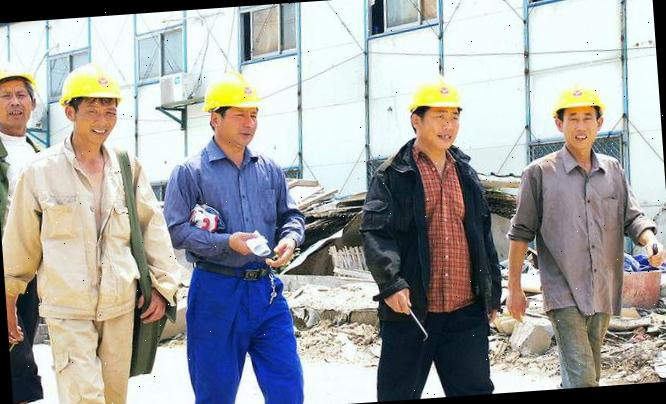helmet: (198, 68, 262, 114), (56, 62, 119, 107), (406, 78, 465, 114), (549, 82, 606, 118)
no_wear: (24, 148, 154, 324), (371, 146, 488, 315), (523, 155, 631, 318), (179, 147, 288, 279)
